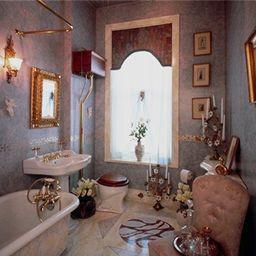Lavamanos: (25, 140, 92, 181)
Sanitario: (94, 173, 133, 213)
Ventana: (109, 33, 171, 163)
